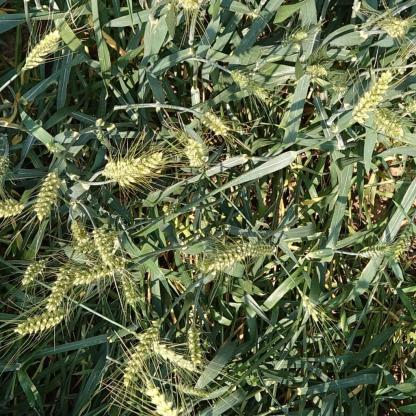whd: (129, 330, 199, 373), (122, 317, 164, 388), (349, 70, 394, 124), (116, 150, 164, 187), (20, 30, 62, 72), (71, 255, 126, 286), (33, 168, 62, 220), (13, 309, 65, 336), (145, 376, 179, 416), (45, 265, 72, 312), (210, 242, 252, 272), (90, 225, 115, 268), (373, 107, 405, 138), (392, 222, 414, 264), (120, 266, 140, 308), (70, 218, 93, 253), (297, 291, 320, 325), (199, 111, 230, 136), (182, 138, 208, 167), (187, 321, 203, 368), (22, 258, 48, 286), (381, 17, 412, 39), (173, 382, 211, 399), (361, 242, 392, 259), (102, 160, 131, 178), (0, 198, 25, 217), (250, 242, 278, 258), (282, 30, 309, 46), (249, 80, 270, 100), (230, 68, 248, 90), (304, 64, 330, 76), (162, 202, 181, 218), (400, 100, 416, 118), (332, 79, 352, 93), (0, 154, 10, 180), (198, 258, 216, 272), (175, 0, 200, 10), (95, 129, 106, 146), (45, 140, 58, 154)
